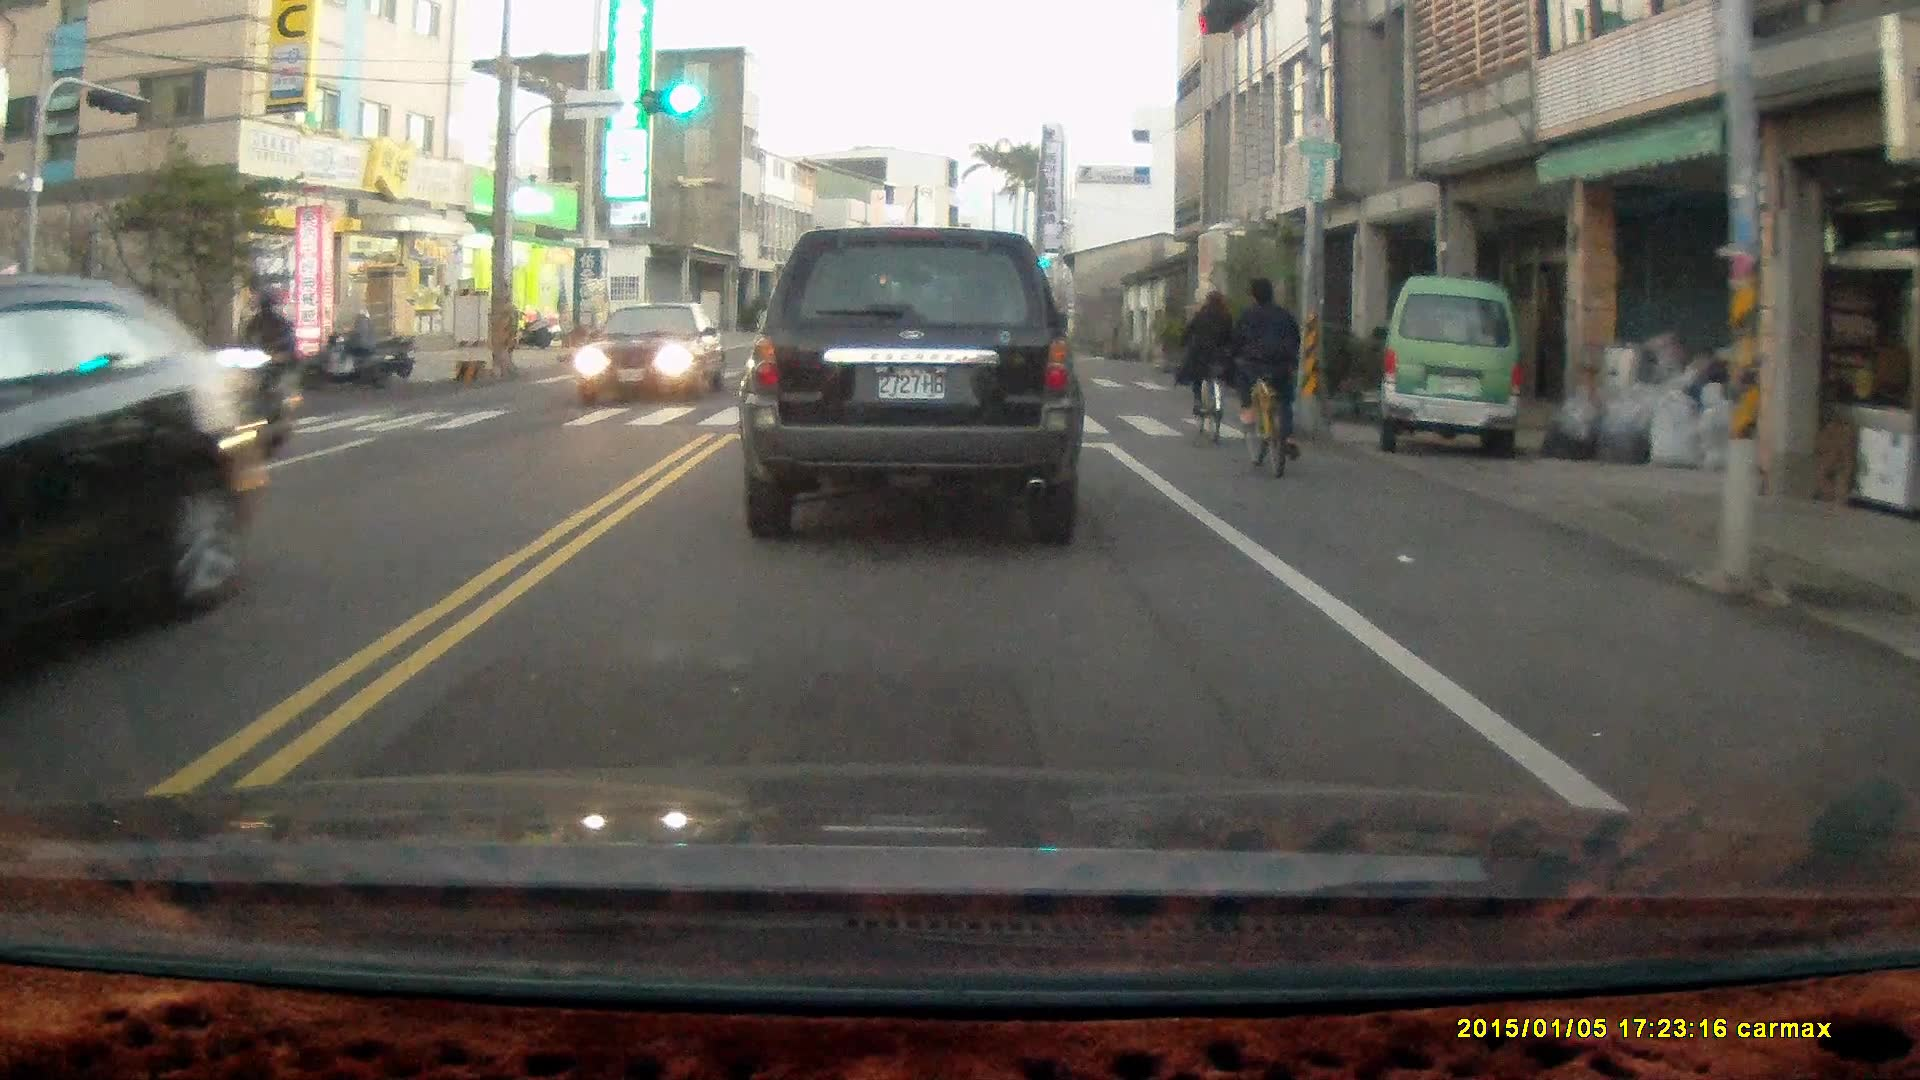rider: (1221, 274, 1304, 481), (206, 288, 302, 462), (1175, 290, 1235, 446), (306, 308, 390, 393)
vehicle: (1, 272, 265, 692), (752, 224, 1088, 534), (1376, 277, 1525, 466), (574, 302, 731, 410)
